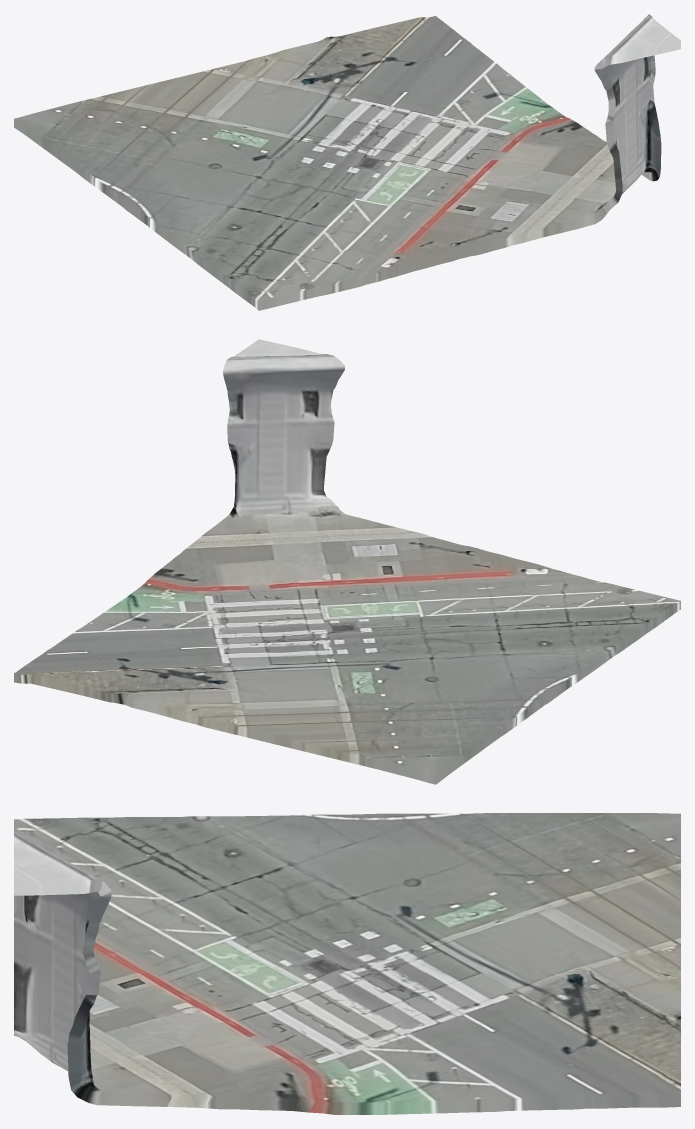
File: z20-167785-405215-h0-yup-uvflip-v3-world.glb
3 renders of one model, top to bottom at view 1: azimuth 30°, elevation 25°; view 2: azimuth 150°, elevation 25°; view 3: azimuth 270°, elevation 25°, orthographic. The views are drawn at different scales.
Bounding box in the file's own units: 30.16 × 11.84 × 30.32.
1 material, 1 textured.
